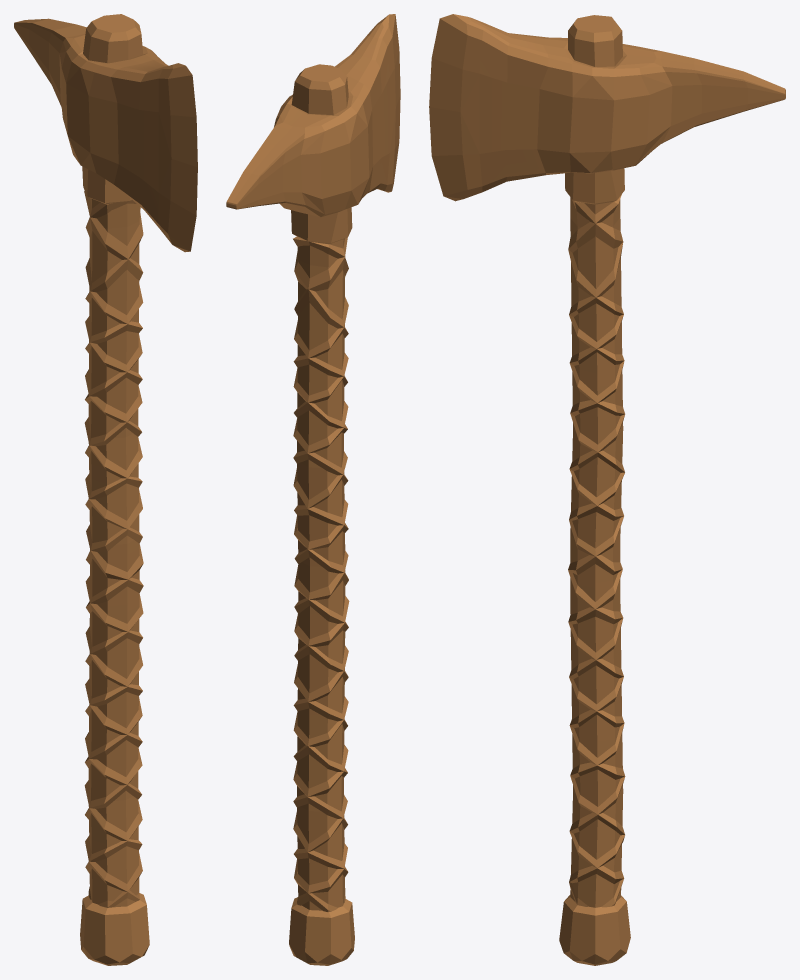
Rendered from Copper_Waraxe.fbx.
3 renders of one model, left to right at view 1: azimuth 30°, elevation 25°; view 2: azimuth 150°, elevation 25°; view 3: azimuth 270°, elevation 25°, orthographic. The views are drawn at different scales.
Visible parts, largest first — view 1: Copper_WarAxe; view 2: Copper_WarAxe; view 3: Copper_WarAxe.
Part boxes in pixels (<box>): Copper_WarAxe: <box>14,14,197,965</box>; Copper_WarAxe: <box>226,14,400,965</box>; Copper_WarAxe: <box>429,14,785,965</box>.
Size of the model in its own units: 0.3659 by 4.2 by 1.44.
